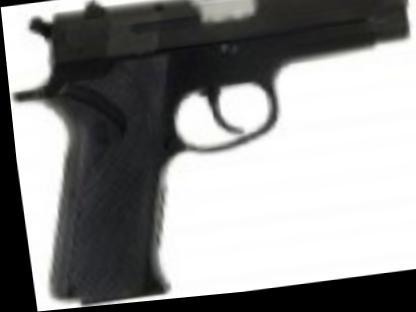pistol: (0, 0, 415, 307)
